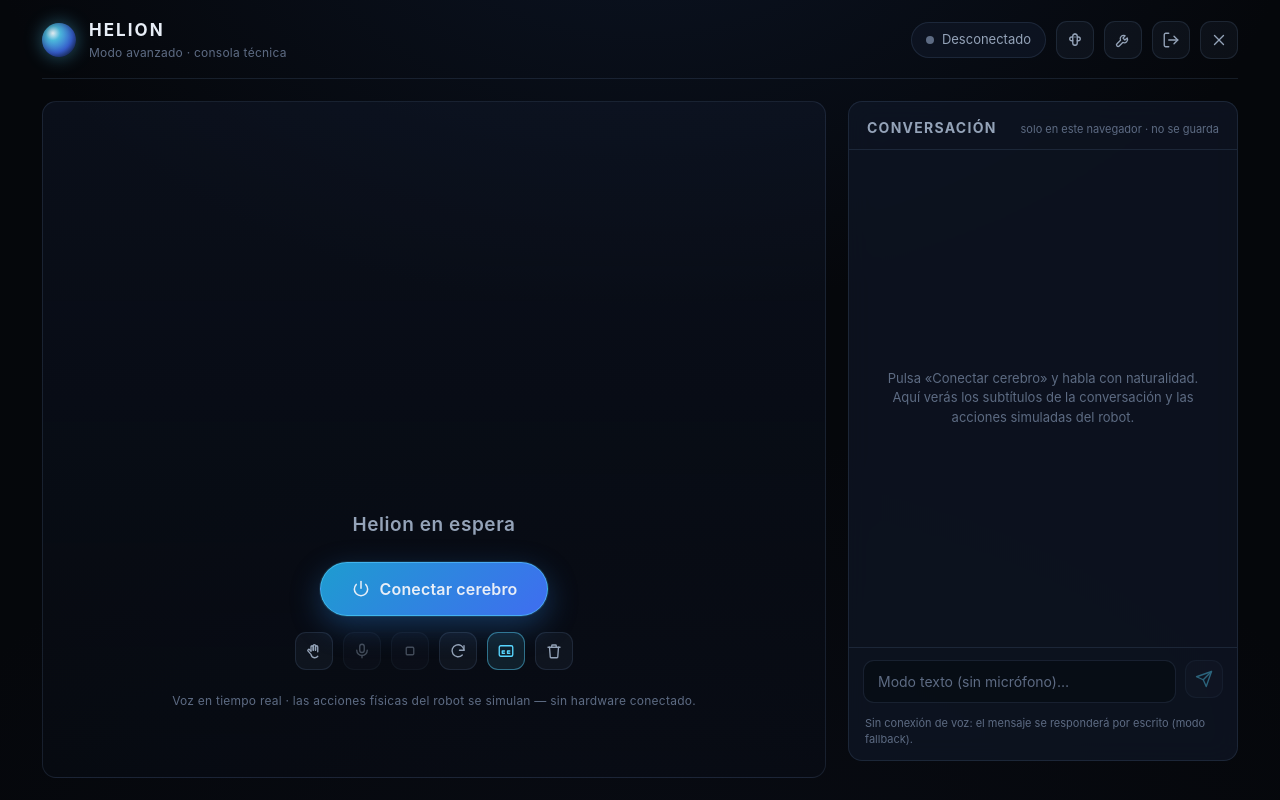
Test: modo avanzado (oculto) › se puede volver a la experiencia minimalista
This screenshot has width=1280, height=800.
Click the button titled "salir del modo avanzado".
click(1219, 40)  # box [1200, 21, 1238, 59]
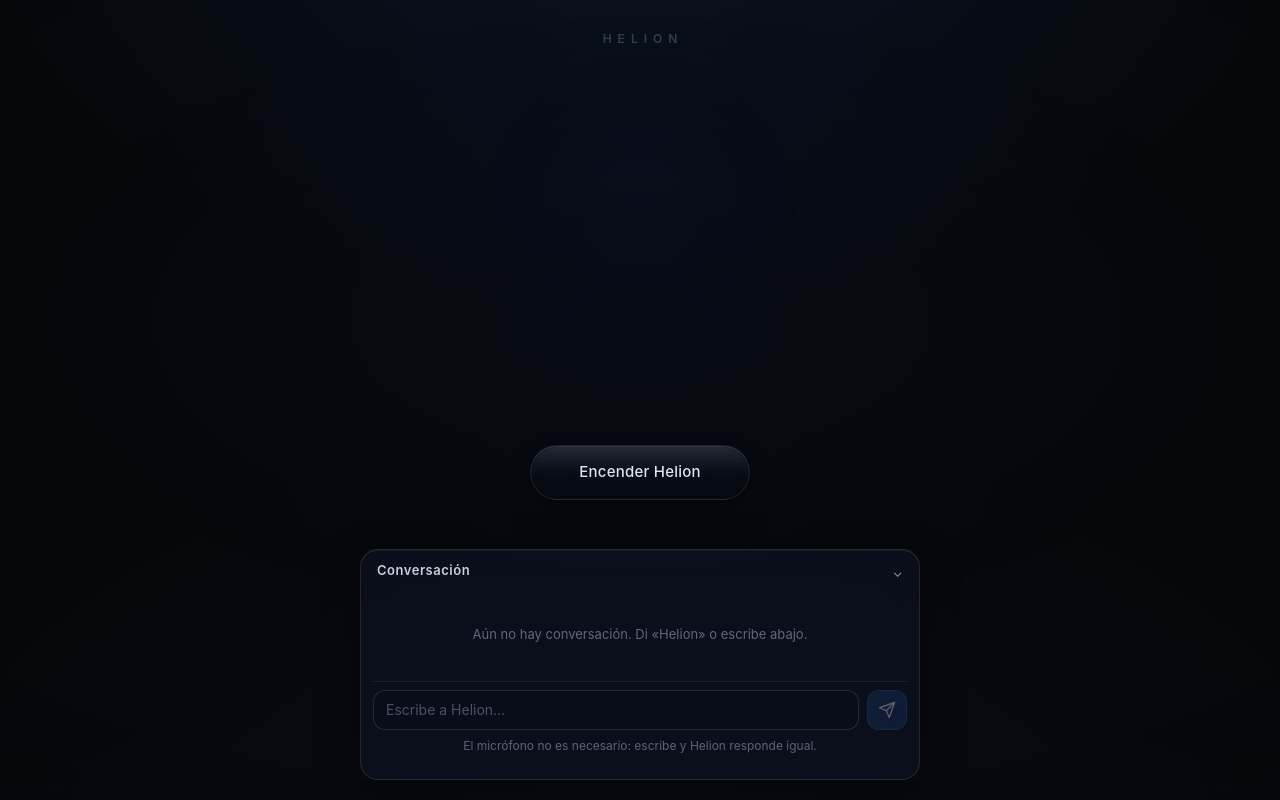
Expected: the button "Encender Helion" is shown, [530, 445, 750, 500]
